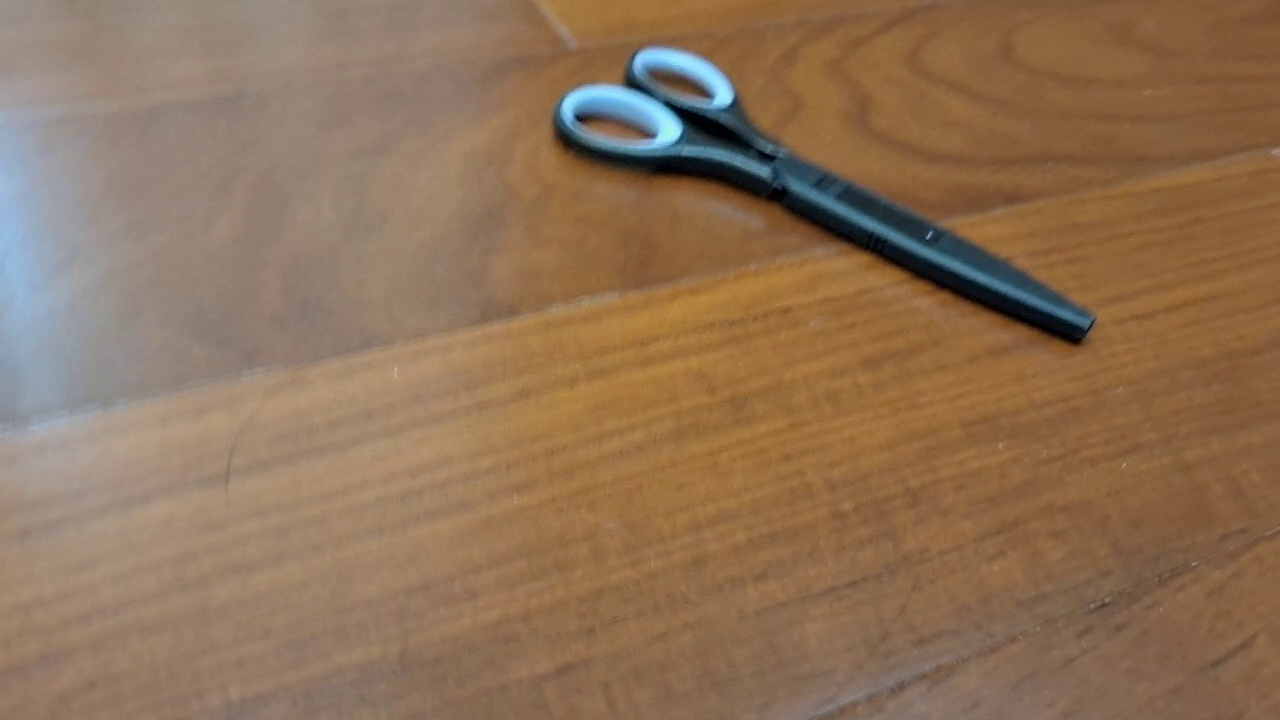scissors: (549, 42, 1098, 348)
